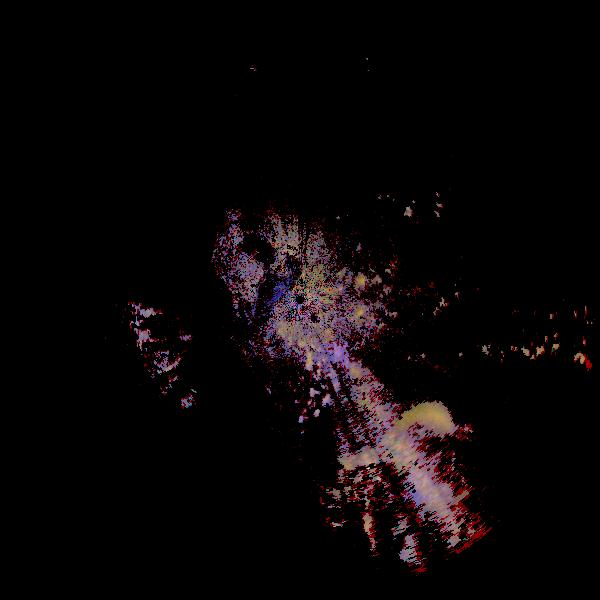roost: (378, 386, 513, 521), (232, 320, 343, 431)
